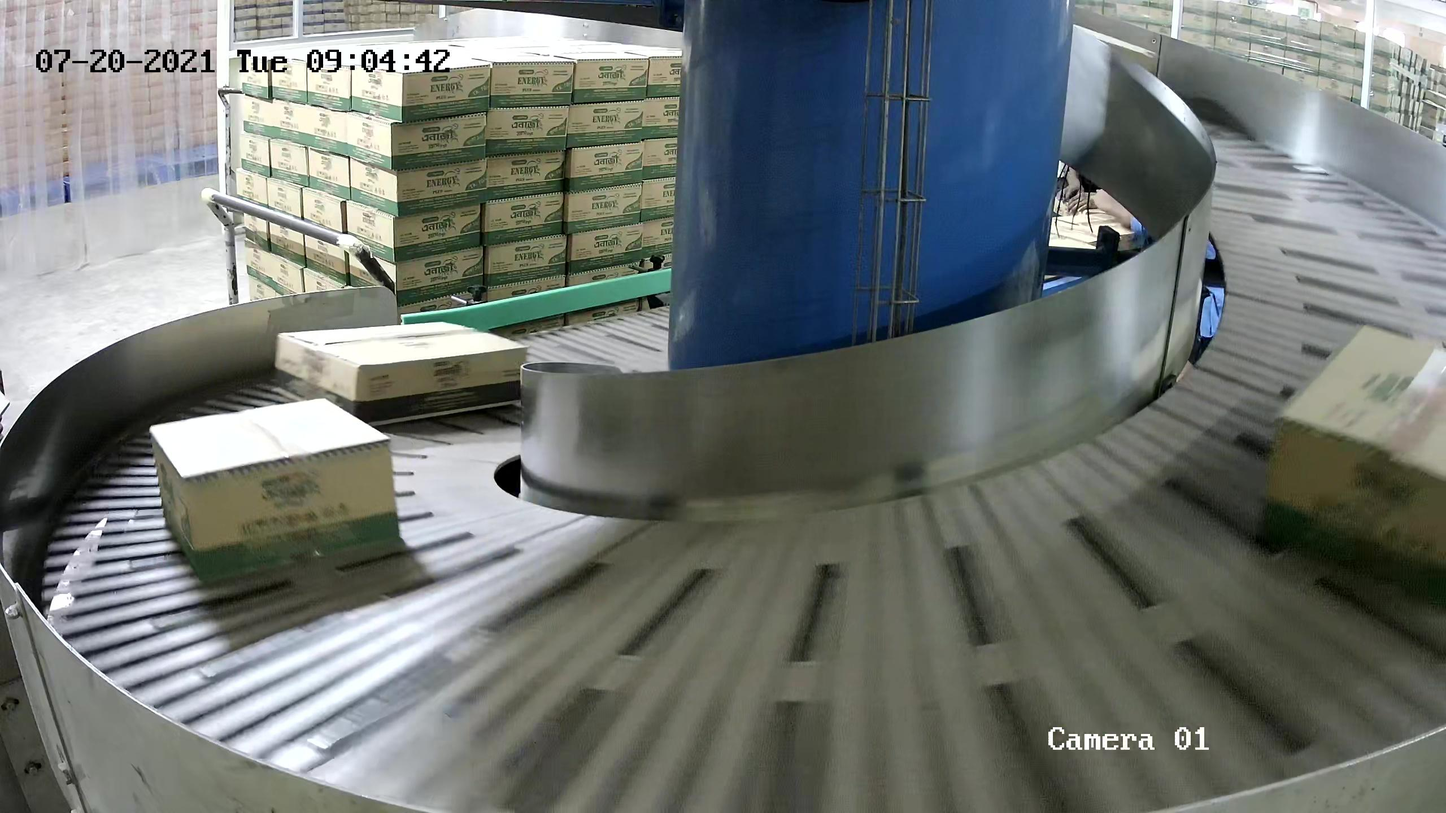Box: (1255, 320, 1446, 621), (148, 397, 402, 581), (274, 319, 530, 431)
